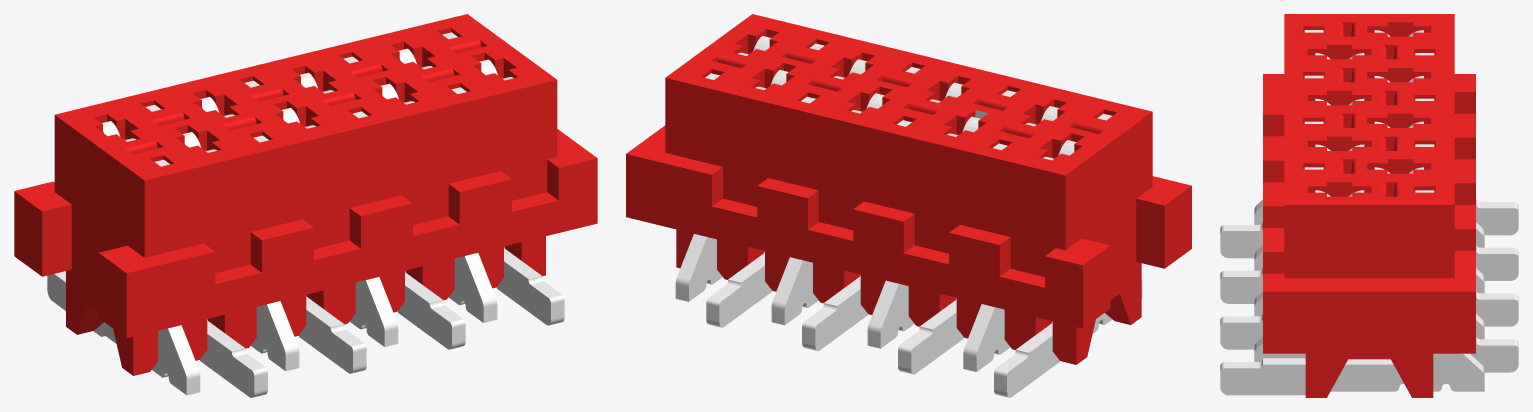
The model's file is mm-8p-smd_p1-27_l12-1_w5_h5-25.obj.
3 views of the same model, side by side, from view 1: azimuth 30°, elevation 25°; view 2: azimuth 150°, elevation 25°; view 3: azimuth 270°, elevation 25° (orthographic). The views are drawn at different scales.
Visible parts, largest first — view 1: mm-8p-smd_p1-27_l12-1_w5_h5-25; view 2: mm-8p-smd_p1-27_l12-1_w5_h5-25; view 3: mm-8p-smd_p1-27_l12-1_w5_h5-25.
Part boxes in pixels (x1,y1,x2,y2): mm-8p-smd_p1-27_l12-1_w5_h5-25: [14, 14, 597, 397]; mm-8p-smd_p1-27_l12-1_w5_h5-25: [626, 14, 1191, 397]; mm-8p-smd_p1-27_l12-1_w5_h5-25: [1220, 14, 1518, 397].
Size of the model in its own units: 0.0281 by 0.0122 by 0.0162.
